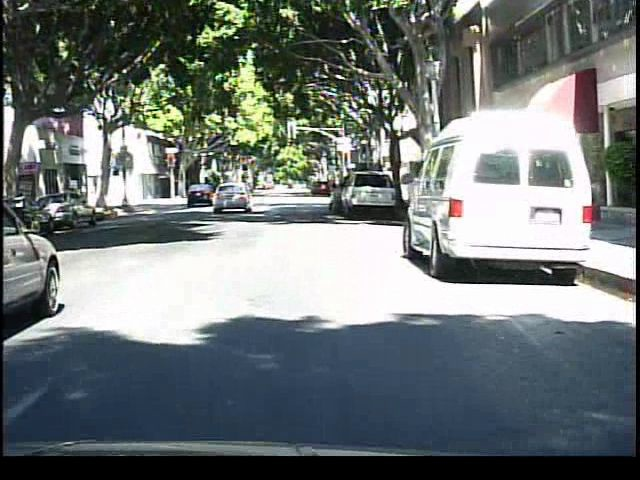person: (225, 171, 247, 205)
